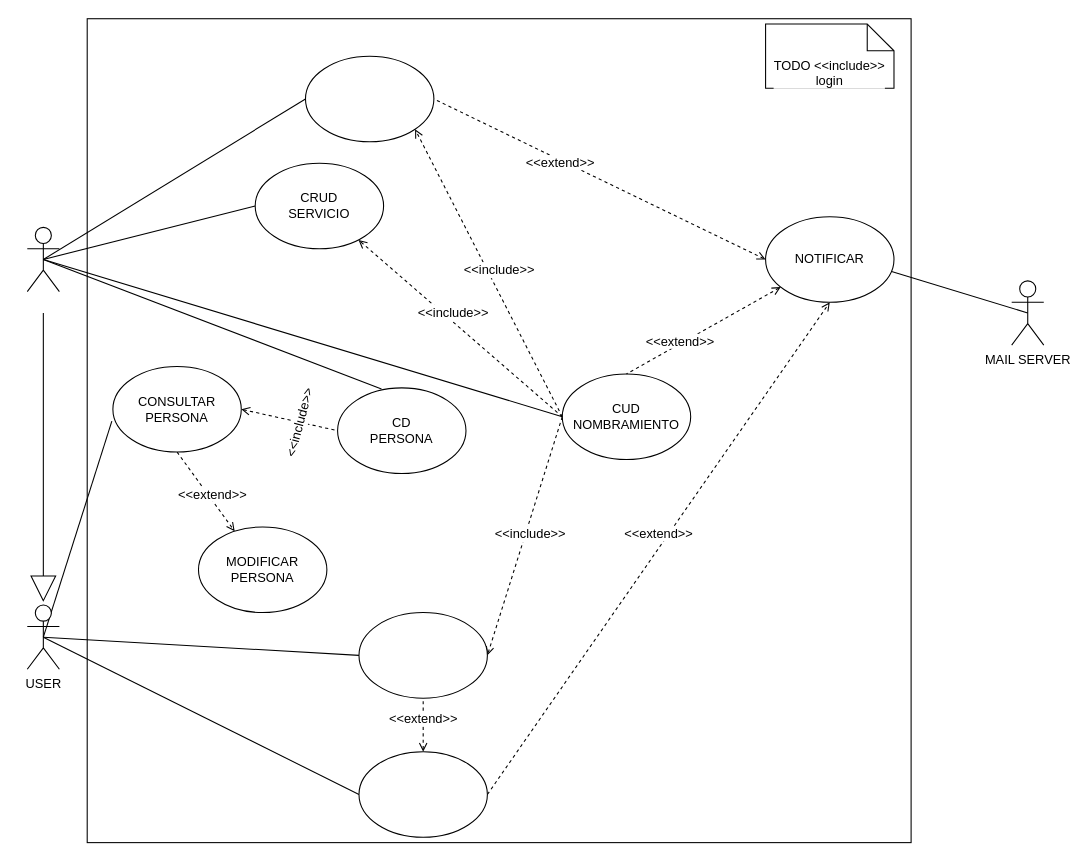
This 1089x861 diagram has some shape labels left out. The shapes that lost their labels are listed below. From the top down, each one's centre as x and y in pixels, then its label:
pixel 369 98: CRUD CUADRANTE
pixel 42 259: ADMIN
pixel 422 655: CONSULTAR NOMBRAMIENTO
pixel 422 794: SOLICITAR CAMBIO
